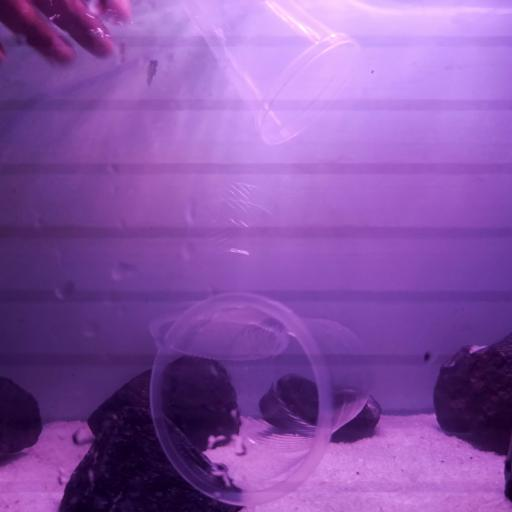plastic_cup: (149, 290, 373, 506), (177, 0, 359, 148), (148, 181, 289, 362)
